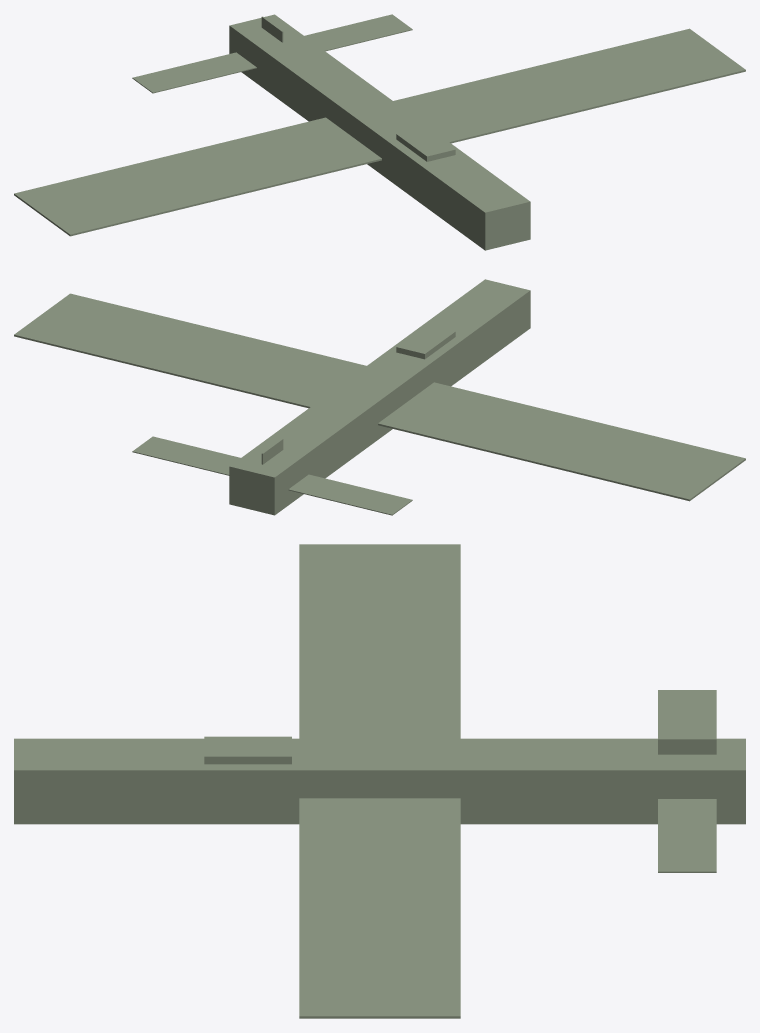
The model's file is lancaster.glb.
The picture shows the model from 3 angles, top to bottom: view 1: azimuth 30°, elevation 25°; view 2: azimuth 150°, elevation 25°; view 3: azimuth 270°, elevation 25°; orthographic projection. The views are drawn at different scales.
Visible parts, largest first — view 1: Fuselage, Wing_L, Wing_R, Elevator_L, Elevator_R, Cockpit; view 2: Fuselage, Wing_L, Wing_R, Elevator_L, Elevator_R, Cockpit; view 3: Fuselage, Wing_R, Wing_L, Elevator_R, Elevator_L, Cockpit, Rudder.
Boxes of the visible parts, x1,y1,x2,y2 form: Fuselage: (229,14,530,250); Wing_L: (14,117,381,236); Wing_R: (393,28,745,143); Elevator_L: (132,52,256,93); Elevator_R: (304,14,412,51); Cockpit: (396,127,455,161); Fuselage: (229,279,530,515); Wing_L: (378,382,745,501); Wing_R: (14,293,366,408); Elevator_L: (288,474,412,515); Elevator_R: (132,436,240,475); Cockpit: (396,324,455,359); Fuselage: (14,738,745,824); Wing_R: (299,798,460,1018); Wing_L: (299,544,460,738); Elevator_R: (658,799,716,872); Elevator_L: (658,690,716,738); Cockpit: (204,736,291,764); Rudder: (658,738,716,754).
Size of the model in its own units: 32.34 by 2.23 by 21.2.
